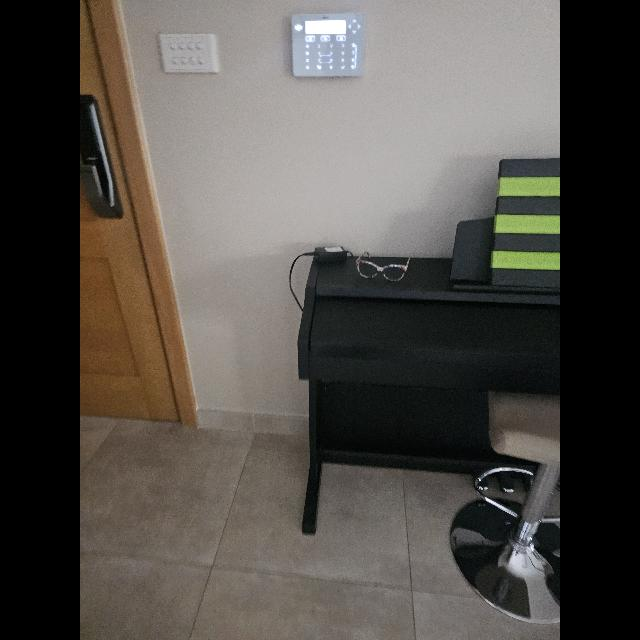glasses: (356, 250, 410, 282)
